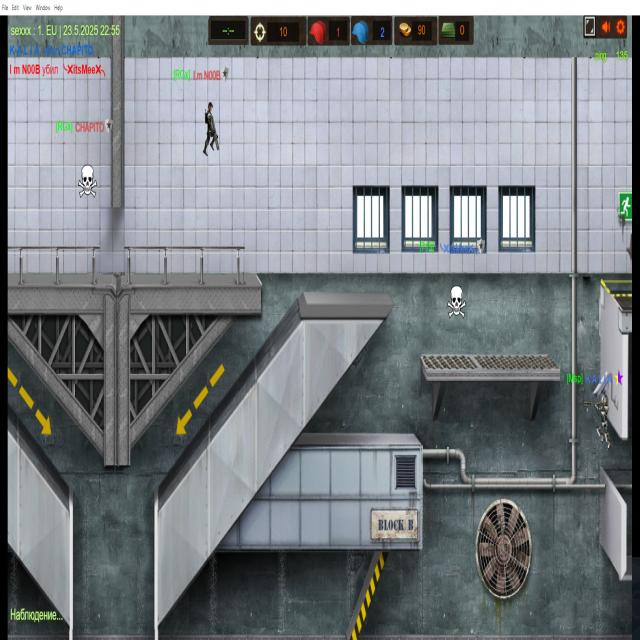enemy: (201, 98, 223, 161), (593, 392, 613, 452)
